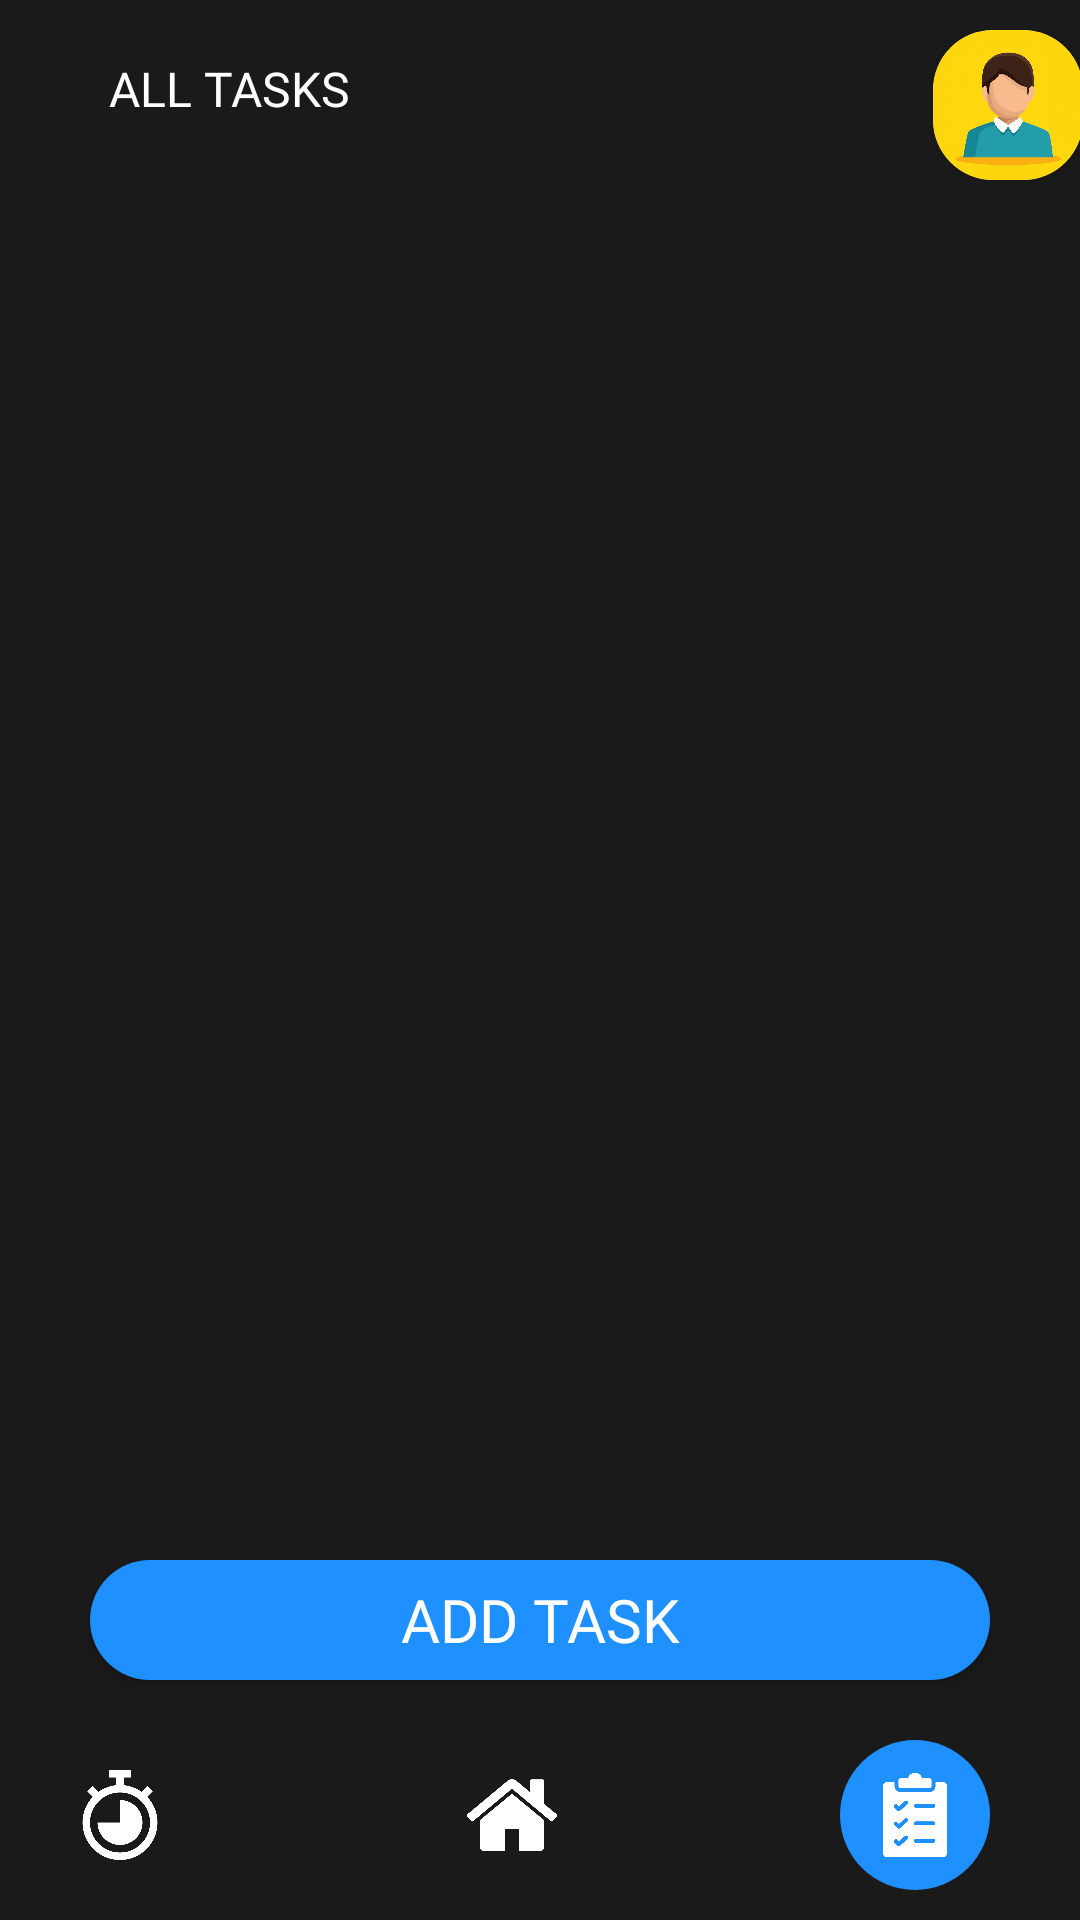

Named icons in this screenshot (1080×1920) and their centers, [x,y]:
checklist: [915,1815]
home: [512,1815]
timer: [120,1815]
